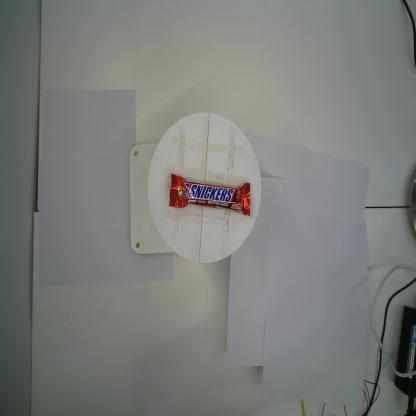Chocolate: (168, 173, 251, 216)
